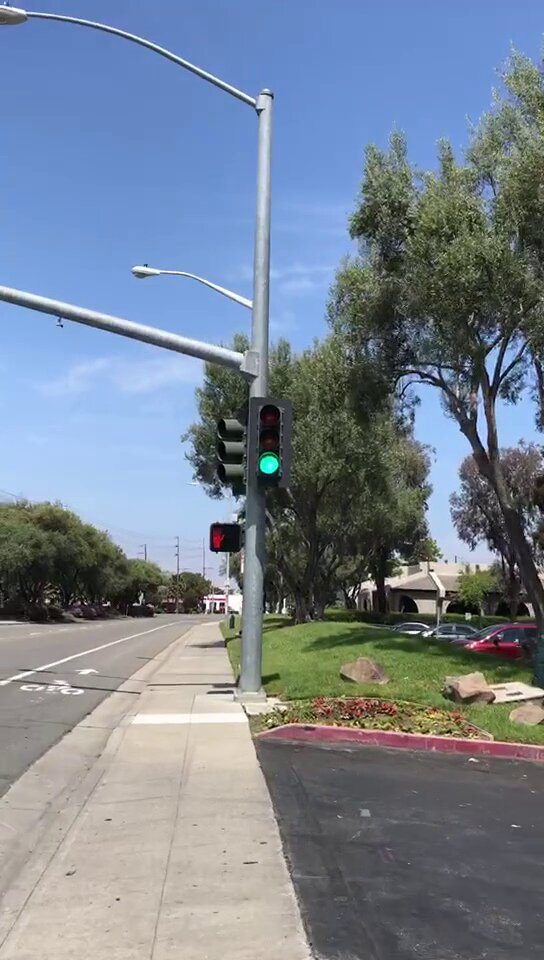green_light: (250, 398, 292, 480)
